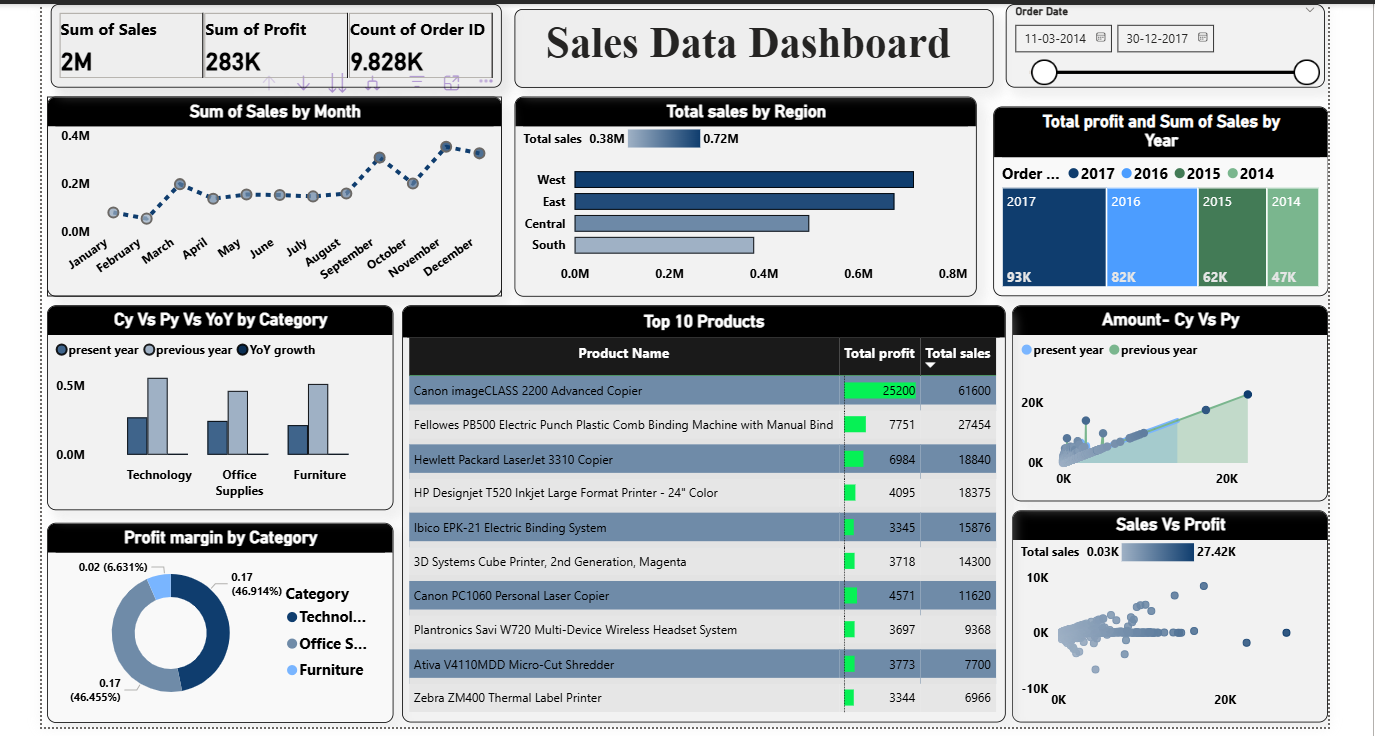

This screenshot's page, from the dashboard's own definition file:
{"tool":"powerbi","page":{"name":"Page 1","canvas":[1280,720],"ordinal":0},"visuals":[{"type":"clusteredBarChart","fields":{"Y":["sales.Total sales"],"Category":["sales.Region"]},"box":[470.2,92.1,460.3,199],"z":0},{"type":"lineChart","fields":{"Category":["sales.Order Date.Variation.Date Hierarchy.Month","sales.Order Date.Variation.Date Hierarchy.Year"],"Y":["Sum(sales.Sales)"]},"box":[5,92.1,452.8,199],"z":1000},{"type":"treemap","fields":{"Group":["sales.Order Date.Variation.Date Hierarchy.Year","sales.Order Date.Variation.Date Hierarchy.Quarter","sales.Order Date.Variation.Date Hierarchy.Month"],"Values":["sales.Total profit"]},"box":[946.7,102,333.4,189.1],"z":2000},{"type":"scatterChart","title":" Sales Vs Profit","fields":{"X":["Sum(sales.Sales)"],"Y":["sales.Profit"]},"box":[965.3,503.8,314.7,211.5],"z":3000},{"type":"pieChart","fields":{"Y":["sales.Profit margin"],"Category":["sales.Category"]},"box":[5,516.2,344.6,199],"z":4000},{"type":"lineChart","title":"Amount- Cy Vs Py","fields":{"Y":["sales.present year","sales.previous year"],"Category":["sales.Sales"]},"box":[965.3,299.8,314.7,195.3],"z":5000},{"type":"clusteredColumnChart","title":"Cy Vs Py Vs YoY by Category","fields":{"Y":["sales.present year","sales.previous year","sales.YoY growth"],"Category":["sales.Category"]},"box":[5,299.8,344.6,204],"z":6000},{"type":"tableEx","title":"Top 10 Products","fields":{"Values":["sales.Product Name","sales.Total profit","sales.Total sales"]},"box":[358.3,299.8,600.8,415.5],"z":7000},{"type":"cardVisual","fields":{"Data":["Sum(sales.Sales)","Sum(sales.Profit)","CountNonNull(sales.Order ID)"]},"box":[8.7,0,449.1,83.3],"z":8000},{"type":"textbox","box":[470.2,5,476.4,78.4],"z":9000},{"type":"slicer","fields":{"Values":["sales.Order Date"]},"box":[959.1,0,317.2,83.3],"z":10001}]}

Visuals, with their boxes in screenshot pixels (x1, y1, x2, y2):
clusteredBarChart - sales.Total sales x sales.Region: bbox(511, 93, 976, 294)
lineChart - sales.Order Date.Variation.Date Hierarchy.Month x sales.Order Date.Variation.Date Hierarchy.Year: bbox(41, 93, 498, 294)
treemap - sales.Order Date.Variation.Date Hierarchy.Year x sales.Order Date.Variation.Date Hierarchy.Quarter: bbox(992, 103, 1329, 294)
" Sales Vs Profit" scatterChart: bbox(1011, 509, 1329, 723)
pieChart - sales.Profit margin x sales.Category: bbox(41, 522, 389, 723)
"Amount- Cy Vs Py" lineChart: bbox(1011, 303, 1329, 500)
"Cy Vs Py Vs YoY by Category" clusteredColumnChart: bbox(41, 303, 389, 509)
"Top 10 Products" tableEx: bbox(398, 303, 1005, 723)
cardVisual - Sum(sales.Sales) x Sum(sales.Profit): bbox(45, 0, 498, 84)
textbox: bbox(511, 5, 992, 84)
slicer - sales.Order Date: bbox(1005, 0, 1325, 84)
